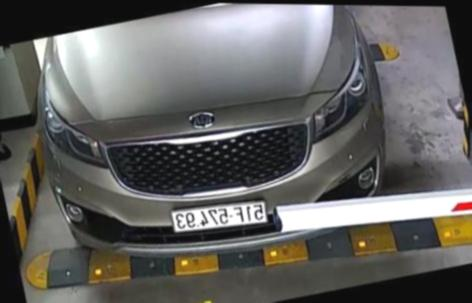License_Plate: (167, 193, 270, 239)
